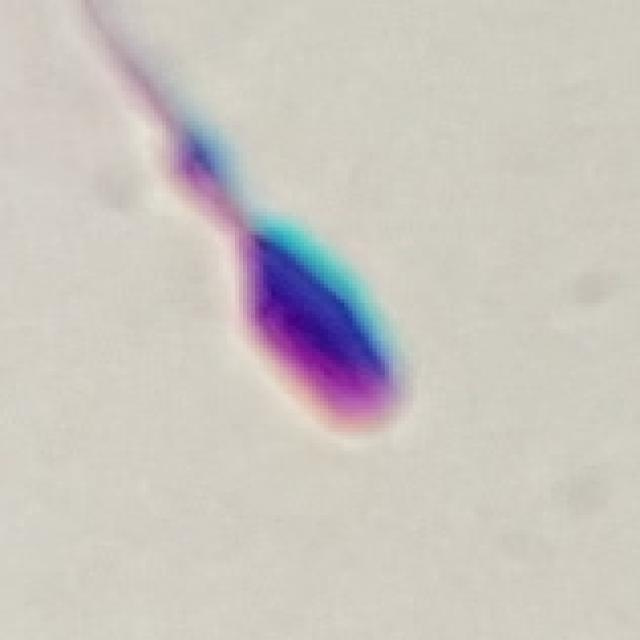abnormal sperm: (130, 77, 446, 459)
